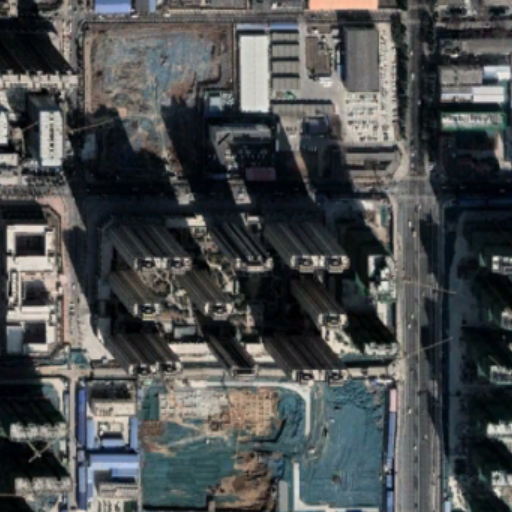cw: (134, 375, 388, 512), (81, 21, 233, 193)
